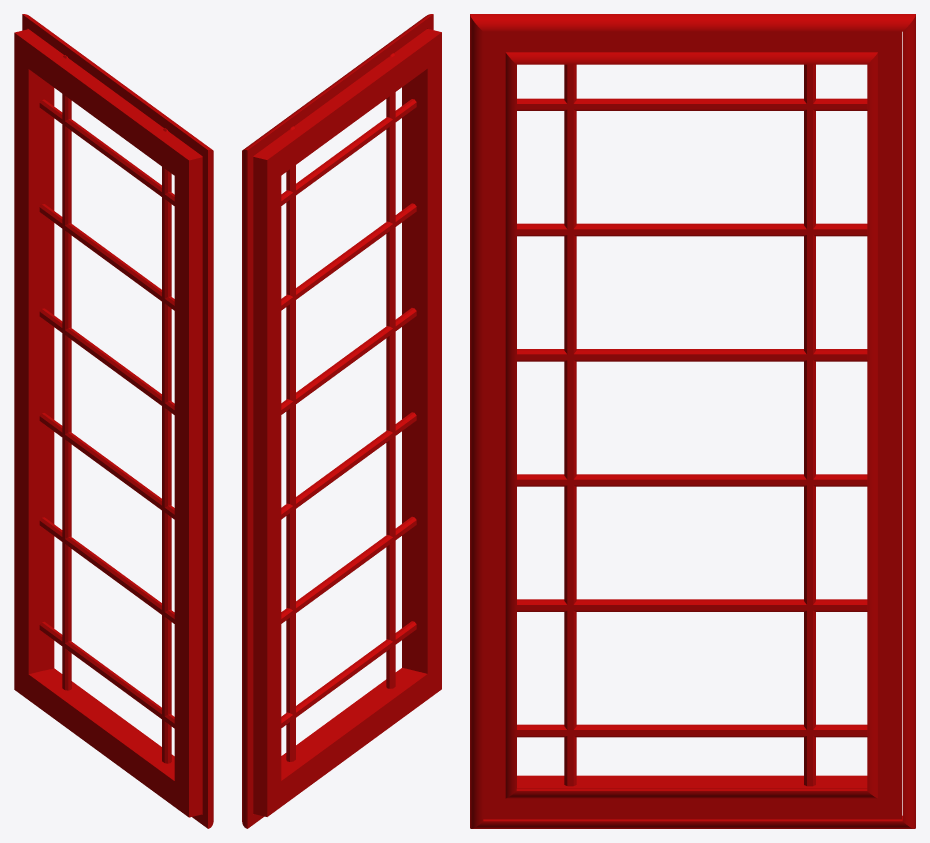
The model's file is phoneBoothDoorNoGlass.obj.
3 renders of one model, left to right at view 1: azimuth 30°, elevation 25°; view 2: azimuth 150°, elevation 25°; view 3: azimuth 270°, elevation 25°, orthographic. The views are drawn at different scales.
Parts seen in each view (by area): view 1: Rectangle10_Untitled.021, Box12_Untitled.010; view 2: Rectangle10_Untitled.021, Box12_Untitled.010; view 3: Rectangle10_Untitled.021, Box12_Untitled.010.
Part boxes in pixels (<box>): Rectangle10_Untitled.021: <box>14,14,213,828</box>; Box12_Untitled.010: <box>39,55,174,763</box>; Rectangle10_Untitled.021: <box>242,14,441,828</box>; Box12_Untitled.010: <box>281,53,416,761</box>; Rectangle10_Untitled.021: <box>470,14,915,828</box>; Box12_Untitled.010: <box>517,64,867,786</box>.
Bounding box in the file's own units: 0.1155 × 2.91 × 1.45.
